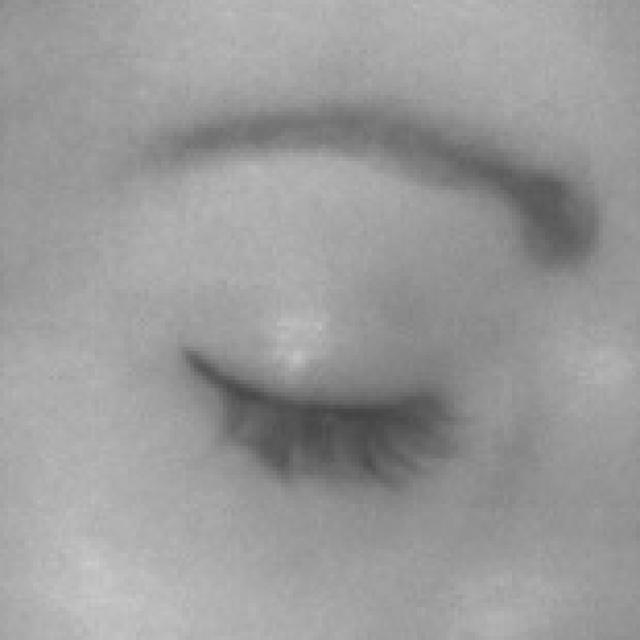close: (26, 74, 639, 556)
